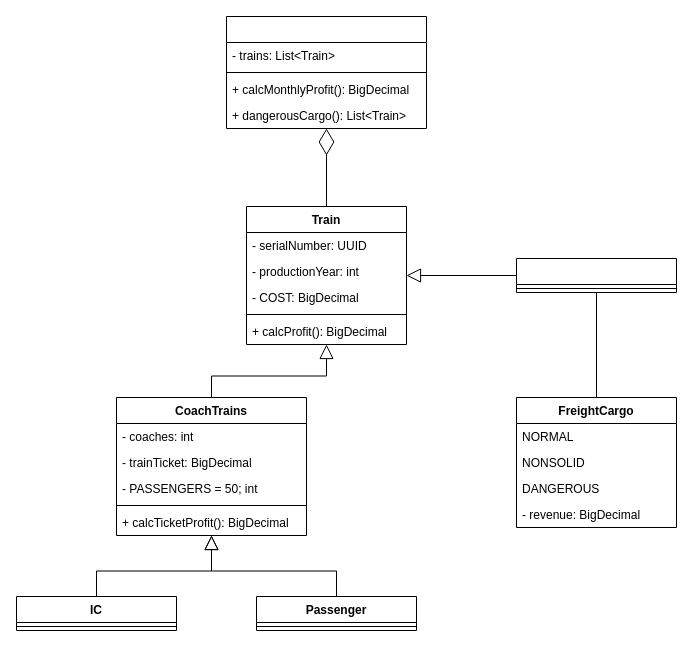
This 693x647 diagram has some shape labels left out. Here are the shapes that lost their labels. From the top down, the box of each, then its label:
(226, 16, 426, 128): TrainCompany
(516, 258, 676, 292): Freight
